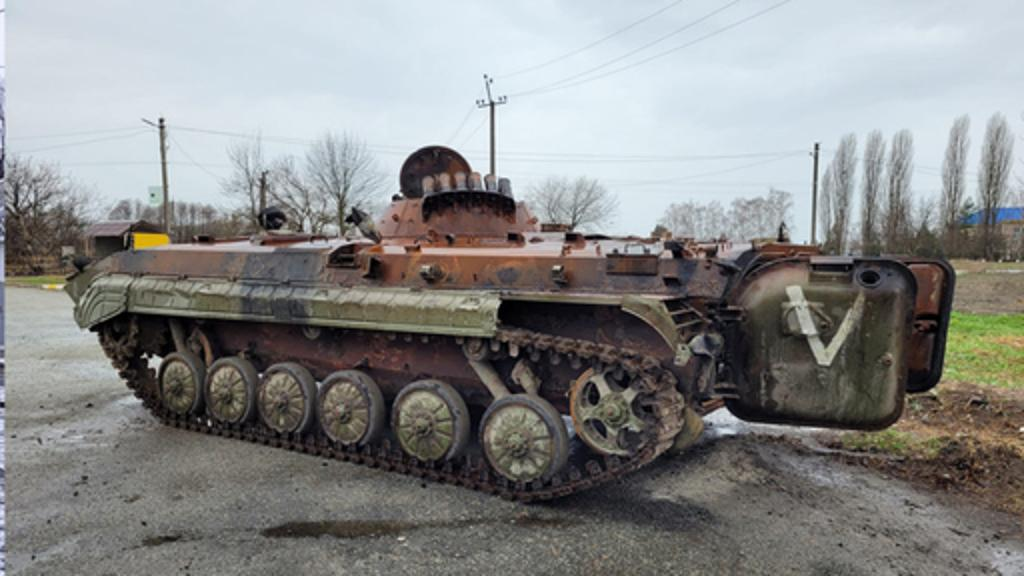APC-IFV: (54, 136, 952, 518)
